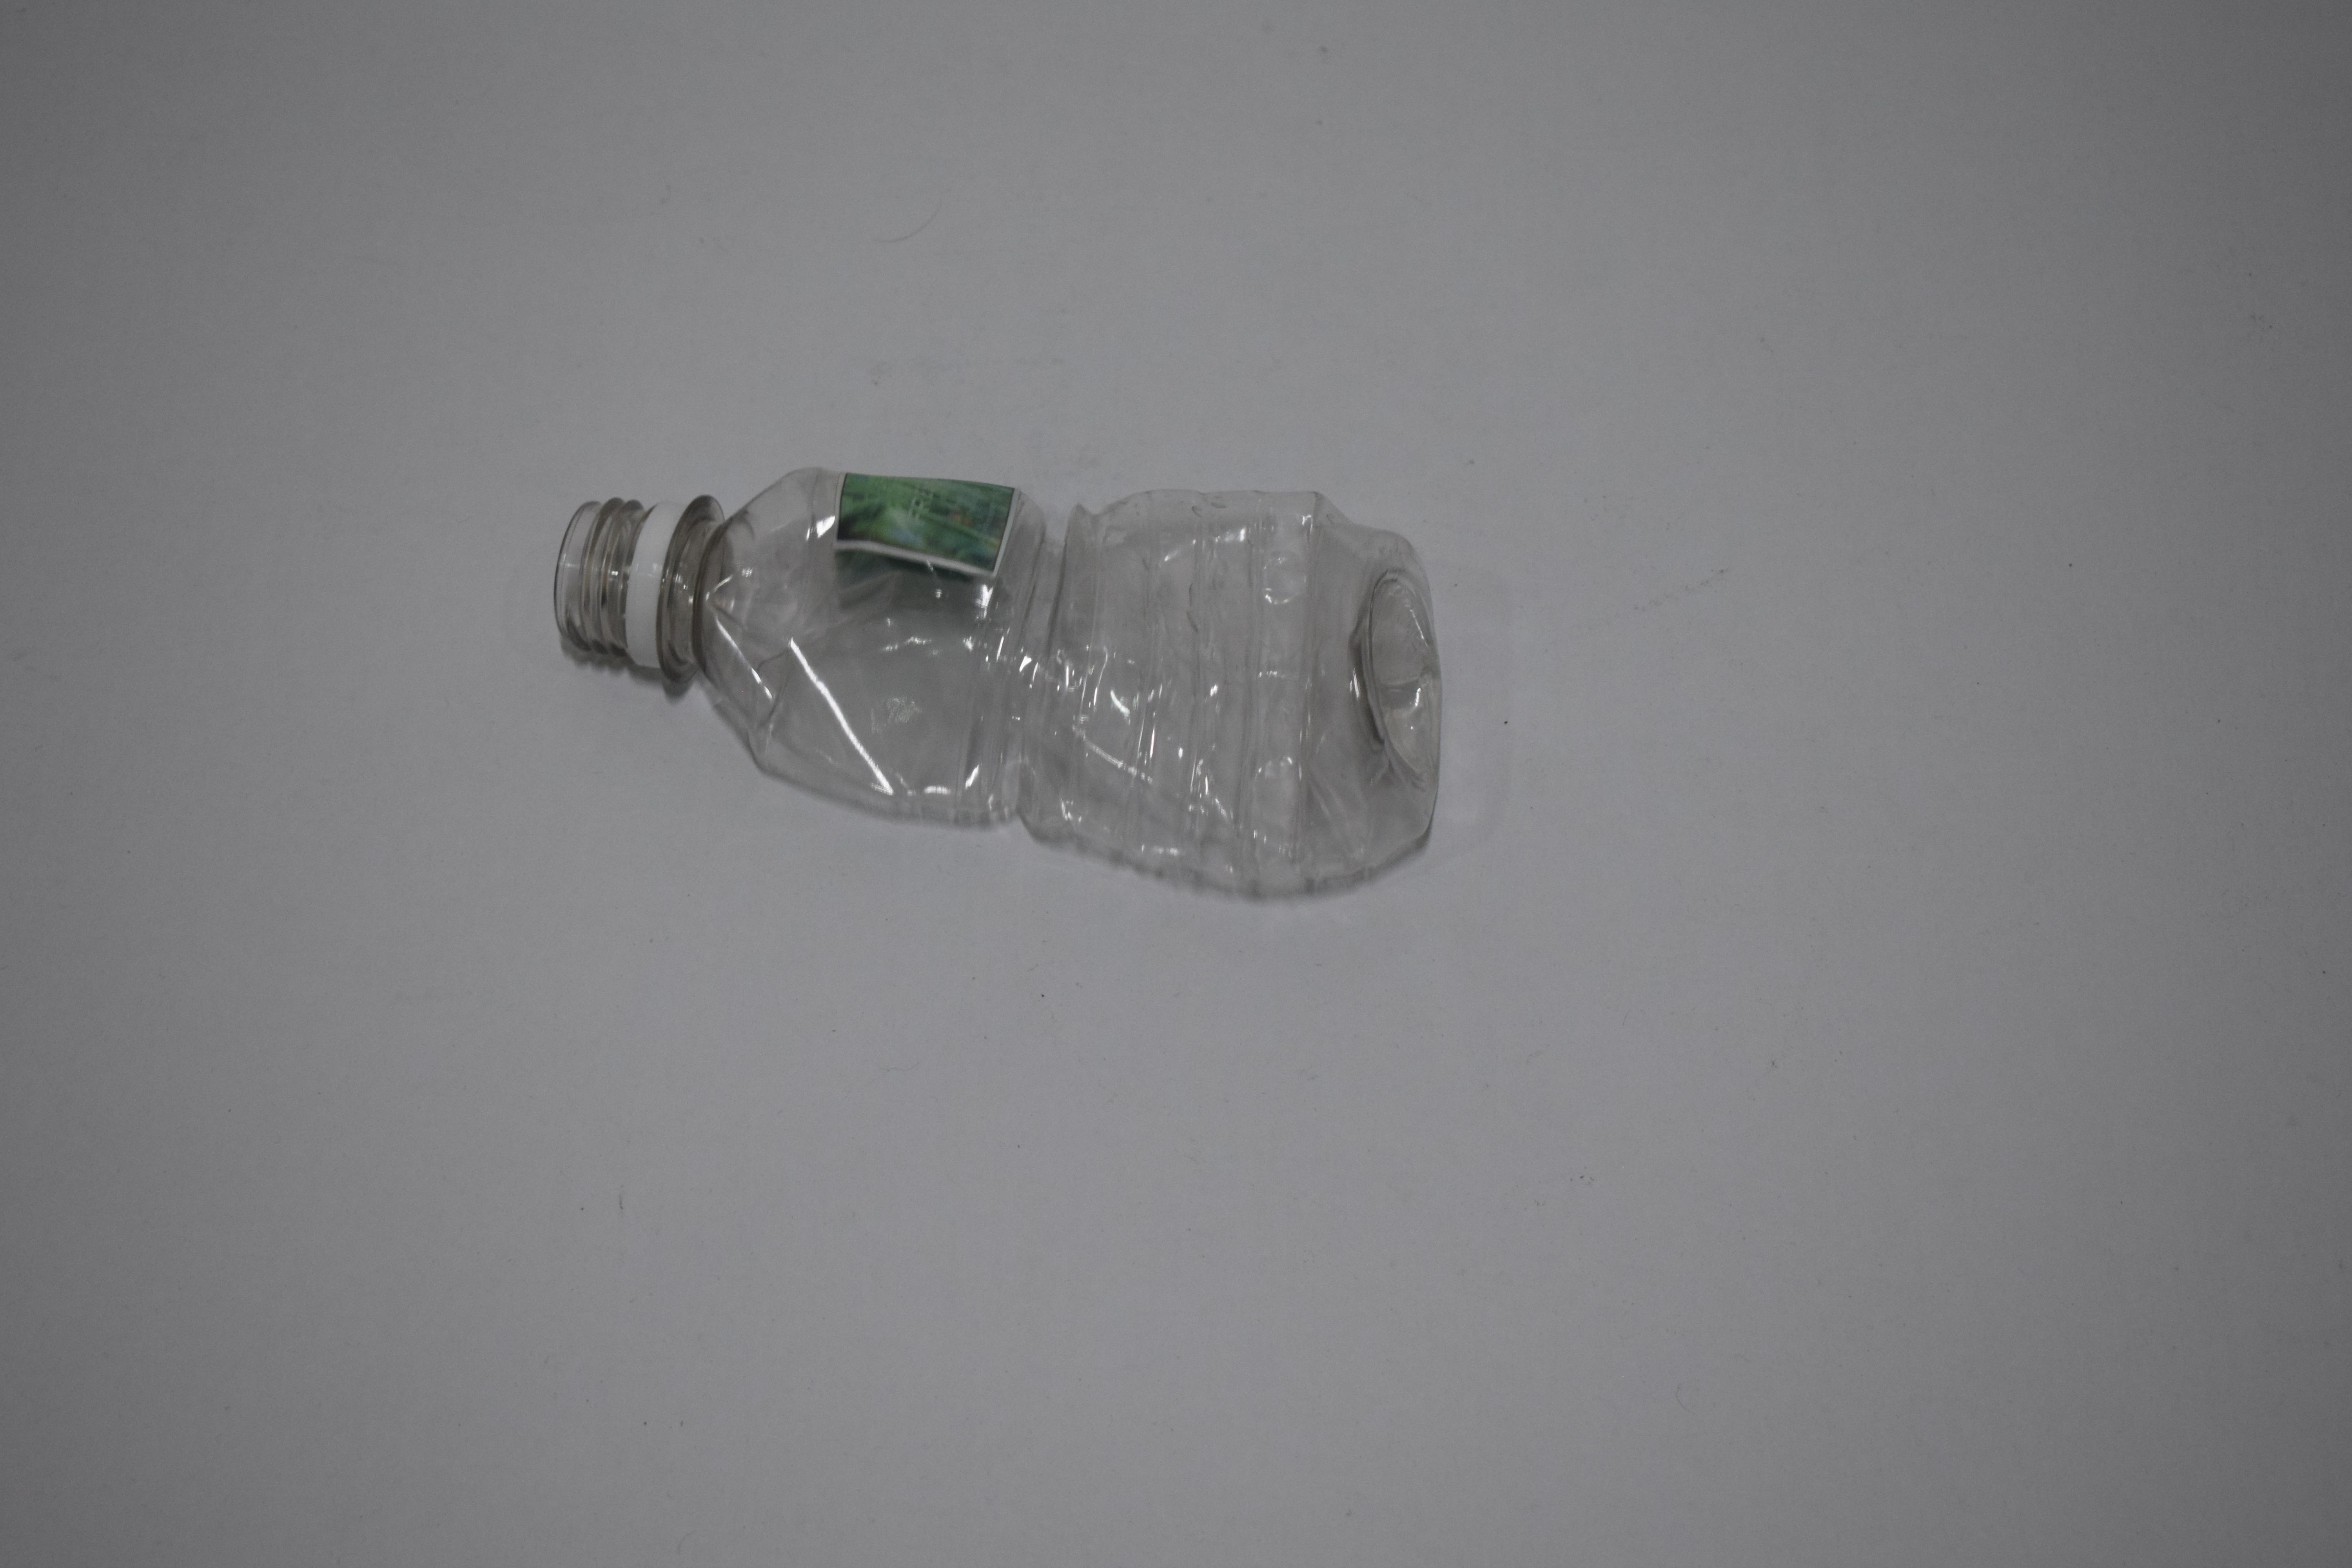bottle: (551, 462, 1444, 905)
